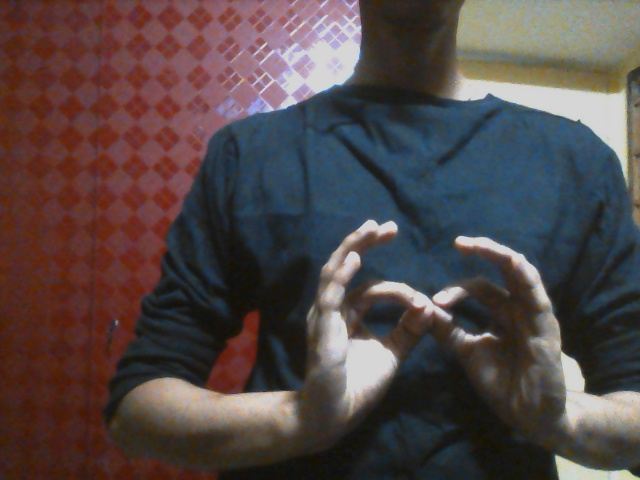B: (302, 216, 569, 469)
